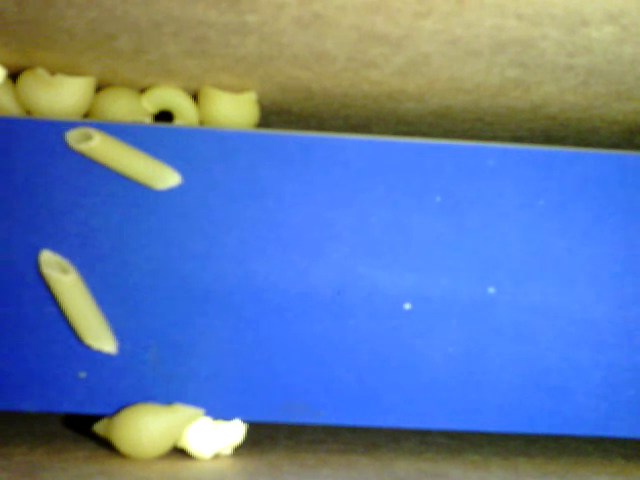elbow: (142, 84, 199, 125)
penne: (36, 247, 120, 355), (63, 125, 182, 192)
shell: (92, 401, 208, 459), (15, 65, 96, 120), (199, 87, 263, 131), (84, 85, 153, 123)
